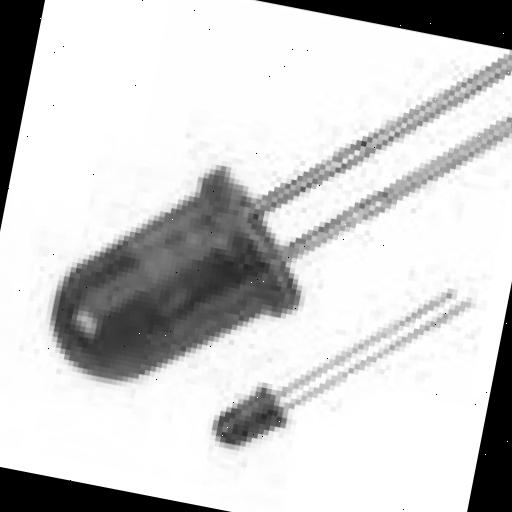LED: (0, 76, 339, 433), (210, 361, 416, 512)
